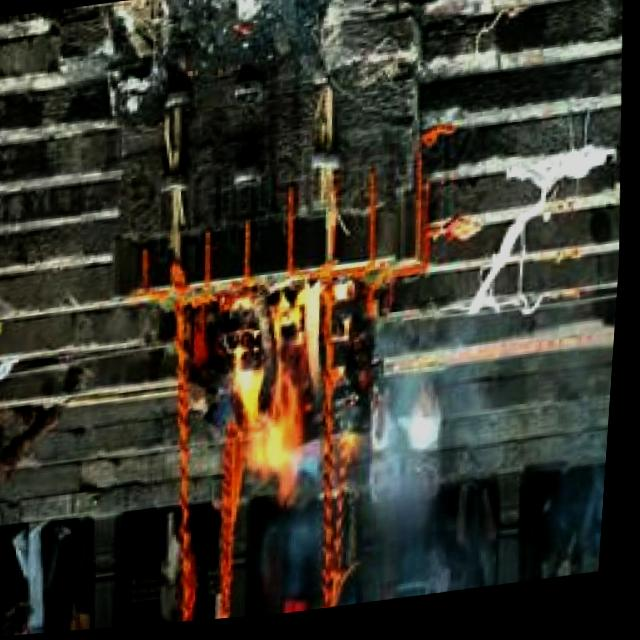Fire: (229, 281, 343, 515)
